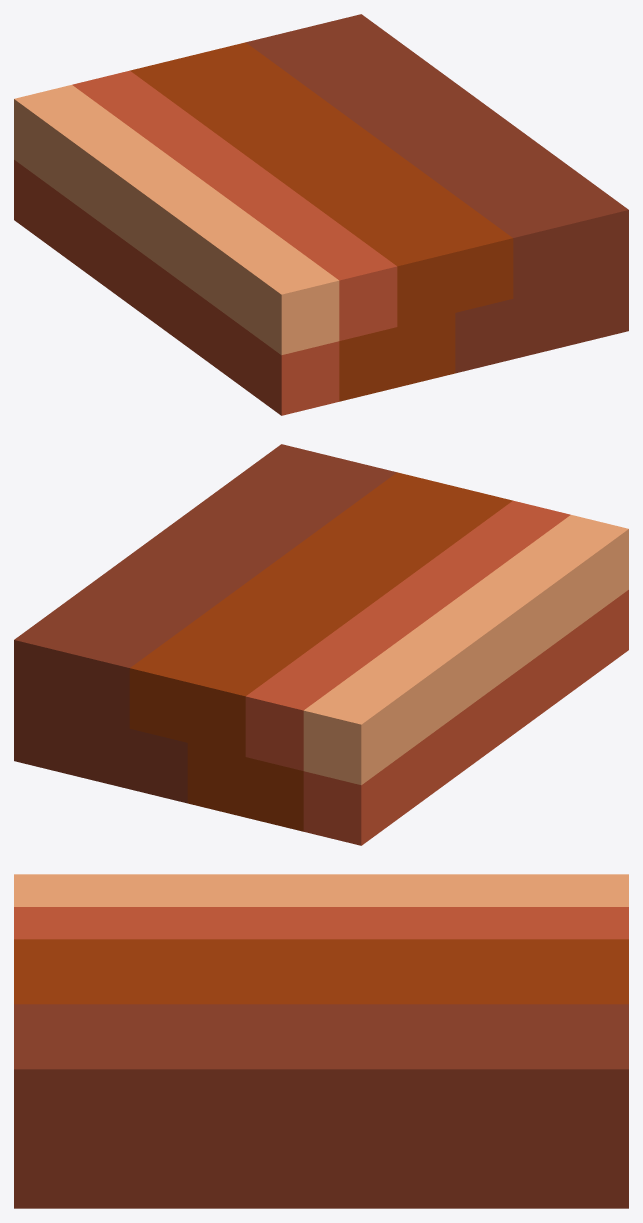
The model's file is CopperIngot.obj.
3 renders of one model, top to bottom at view 1: azimuth 30°, elevation 25°; view 2: azimuth 150°, elevation 25°; view 3: azimuth 270°, elevation 25°, orthographic. The views are drawn at different scales.
Bounding box in the file's own units: 0.6 × 0.2 × 0.8.
1 material, 1 textured.
